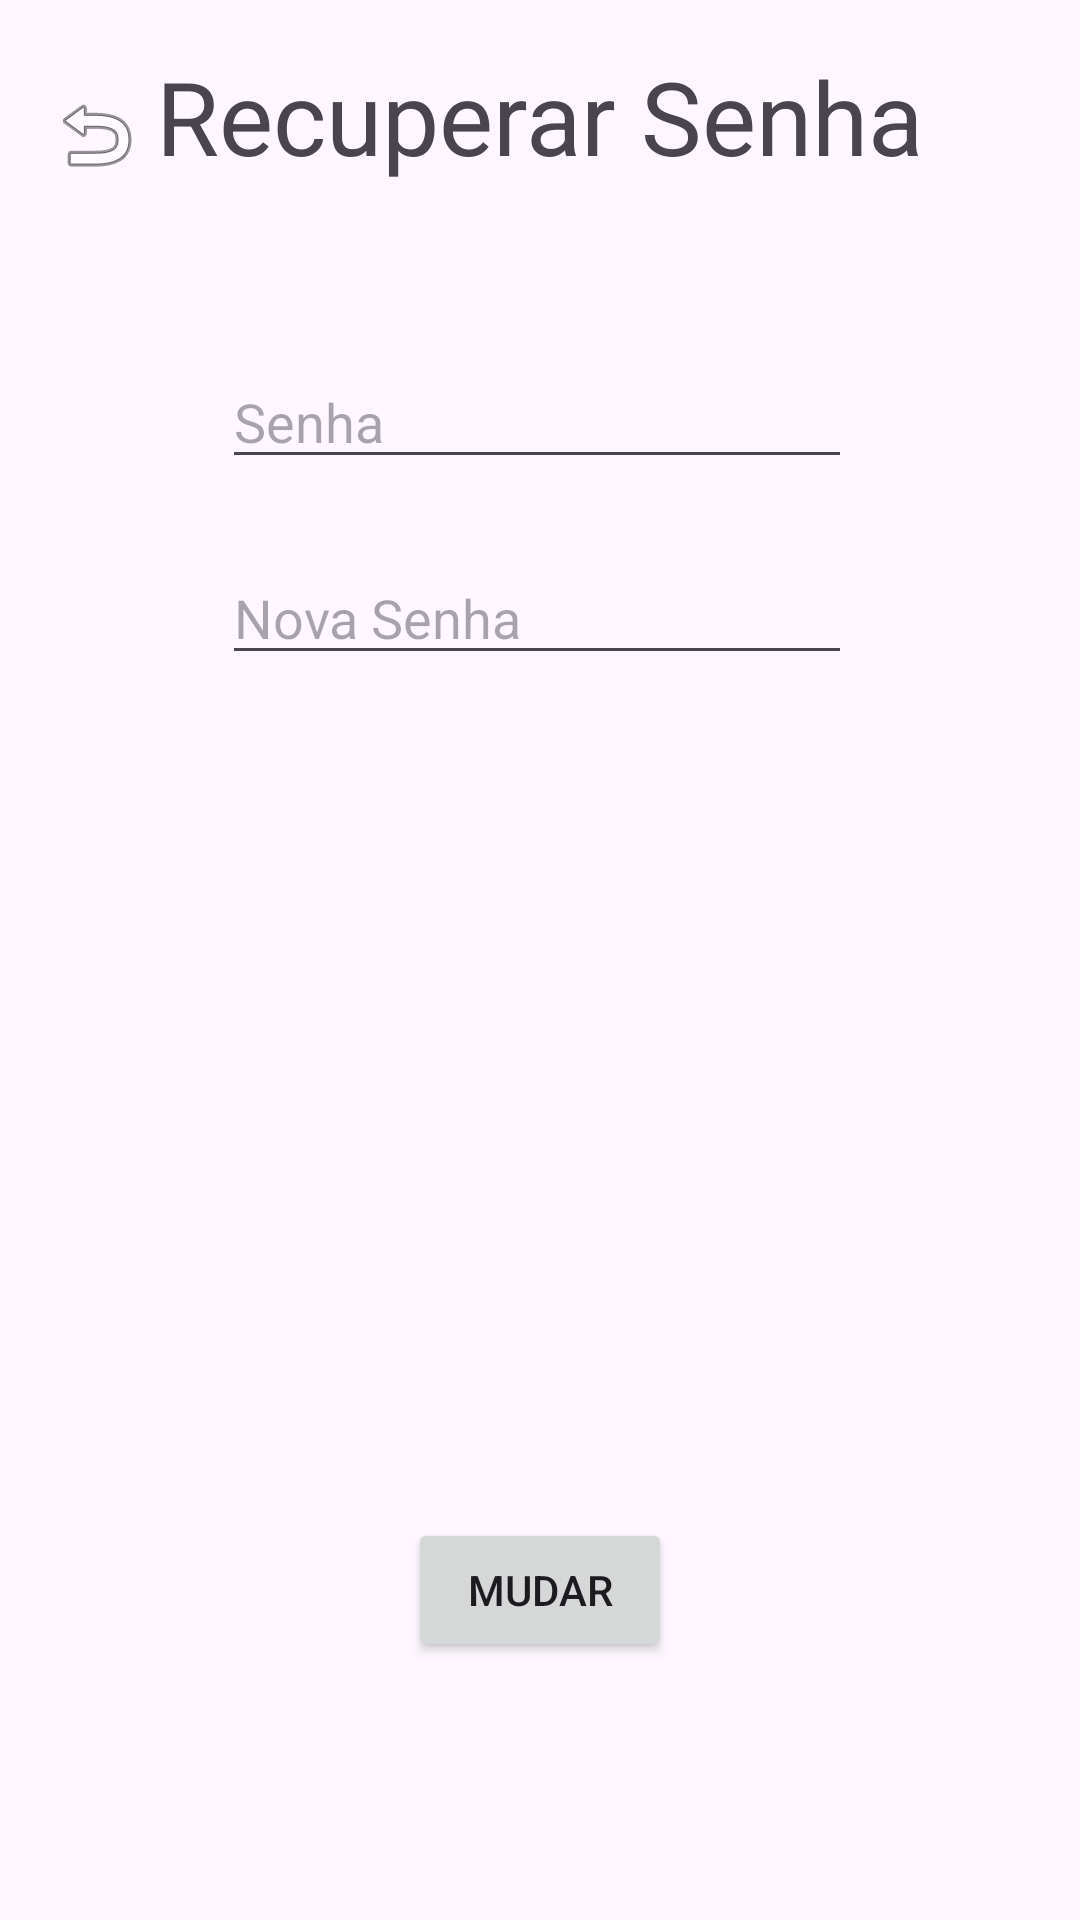

Icon bounding boxes for this 1080 × 1920 phone screenshot, format box=[x1, y1, x2, y2]:
revert: box=[63, 104, 132, 167]
